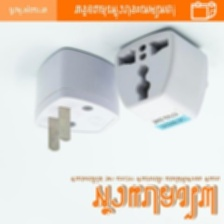three_eye_plug: (102, 23, 212, 137), (28, 41, 125, 156)
